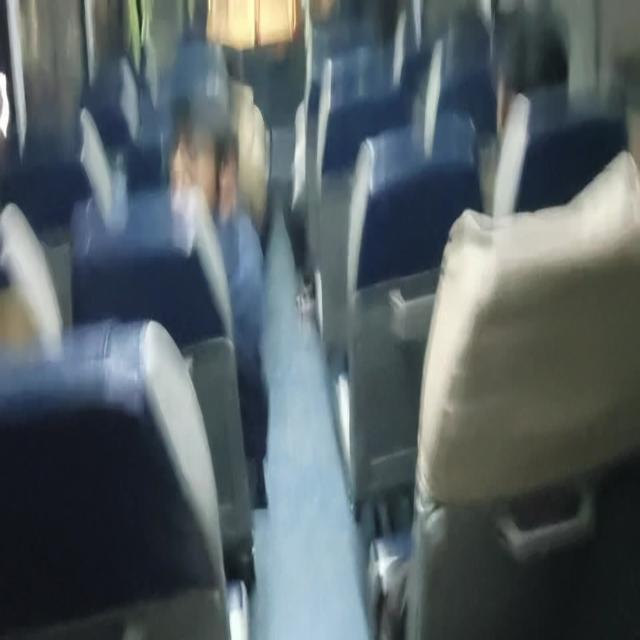person: (159, 116, 238, 218), (492, 36, 569, 115), (190, 22, 252, 88)
